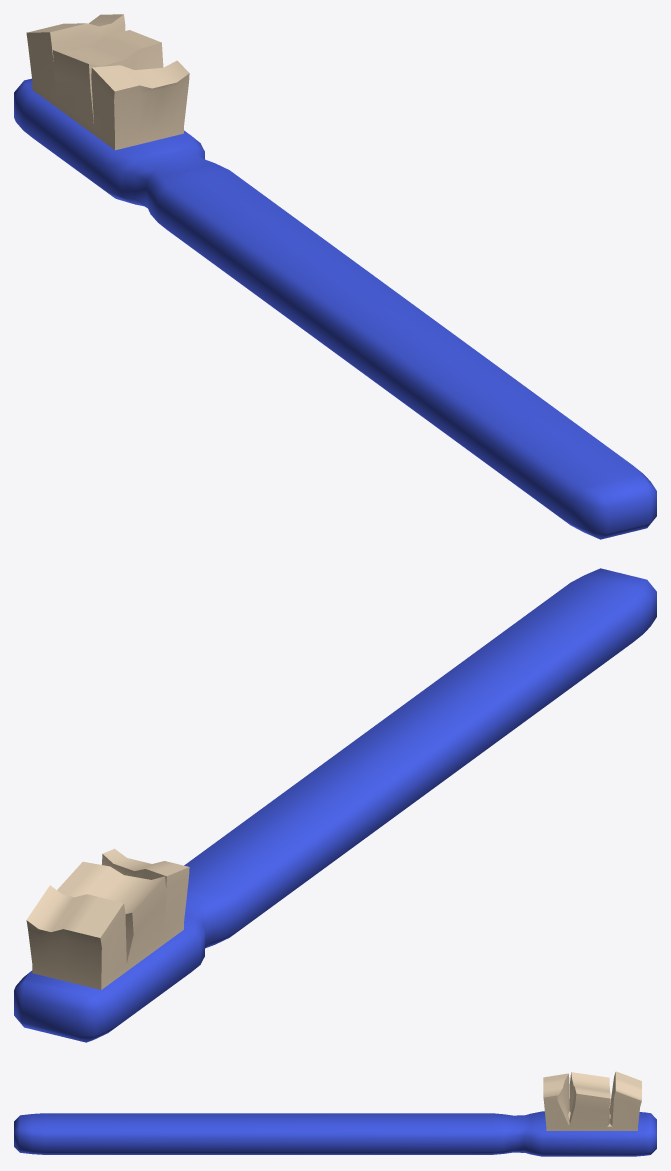
File: toothbrush.fbx
3 renders of one model, top to bottom at view 1: azimuth 30°, elevation 25°; view 2: azimuth 150°, elevation 25°; view 3: azimuth 270°, elevation 25°, orthographic. The views are drawn at different scales.
Parts seen in each view (by area): view 1: Toothbrush; view 2: Toothbrush; view 3: Toothbrush.
Part boxes in pixels (x1,y1,x2,y2): Toothbrush: [14, 14, 656, 539]; Toothbrush: [14, 568, 656, 1042]; Toothbrush: [14, 1071, 656, 1156].
Bounding box in the file's own units: 45.94 × 54.76 × 489.
